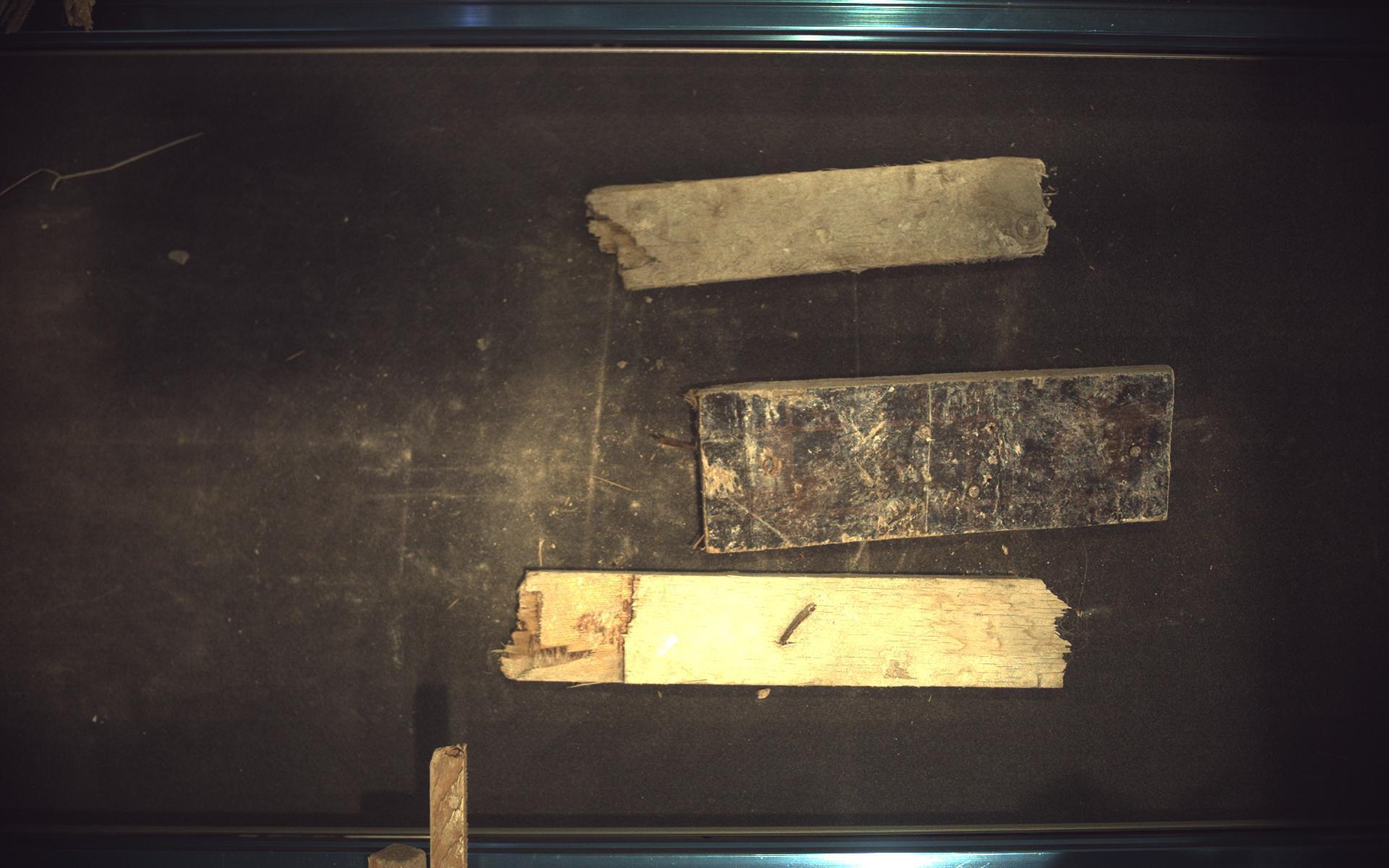wood: (687, 365, 1176, 553), (501, 571, 1072, 689), (587, 156, 1057, 290)
